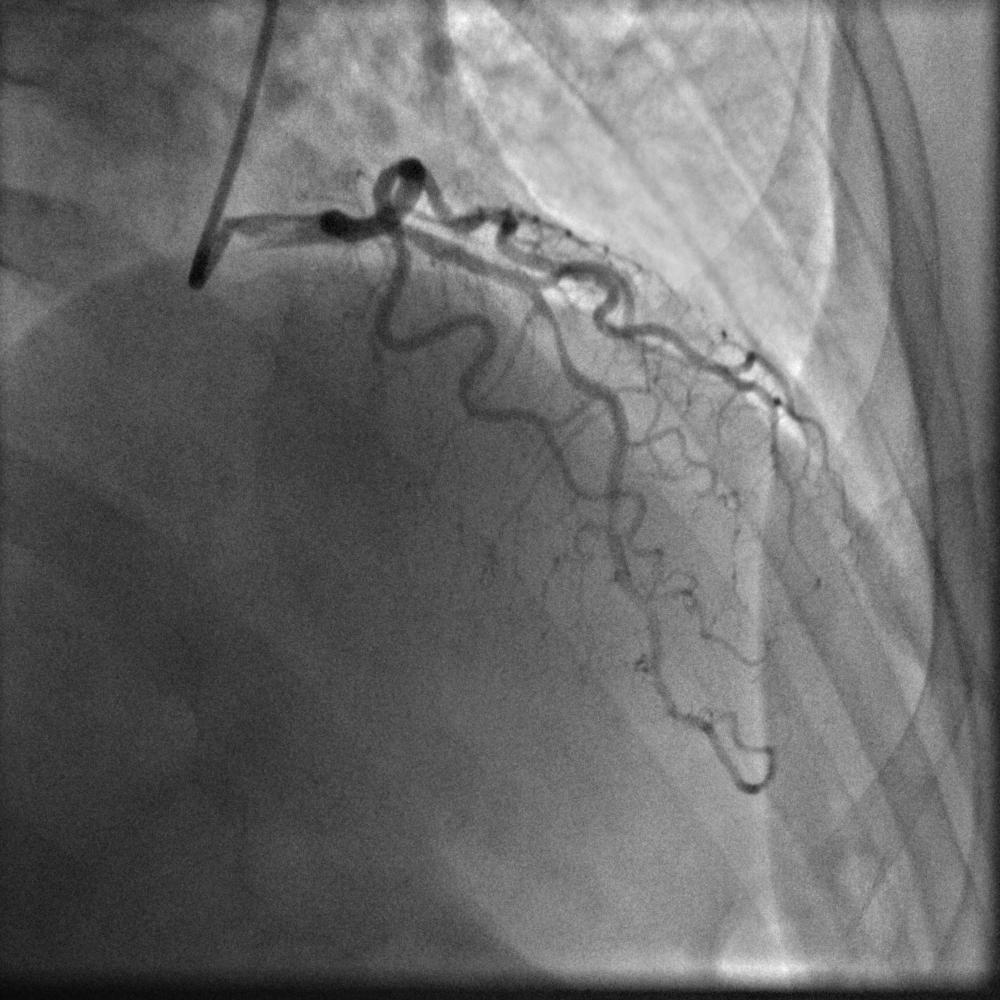Stenosis: (536, 307, 577, 377)
